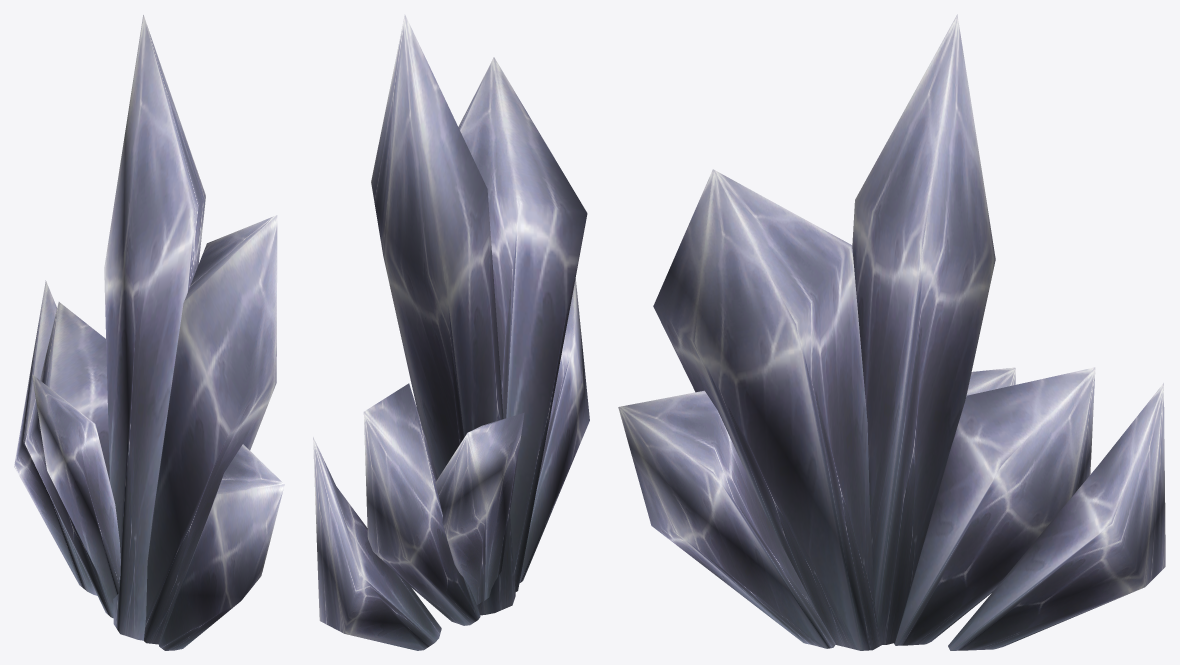
File: sholazar_crystal_01.obj
3 views of the same model, side by side, from view 1: azimuth 30°, elevation 25°; view 2: azimuth 150°, elevation 25°; view 3: azimuth 270°, elevation 25° (orthographic). The views are drawn at different scales.
Parts seen in each view (by area): view 1: sholazar_crystal_01; view 2: sholazar_crystal_01; view 3: sholazar_crystal_01.
Boxes of the visible parts, x1,y1,x2,y2 form: sholazar_crystal_01: (14, 15, 284, 650); sholazar_crystal_01: (313, 14, 589, 650); sholazar_crystal_01: (618, 14, 1165, 650).
Size of the model in its own units: 0.5486 by 1.99 by 1.53.
1 material, 1 textured.
